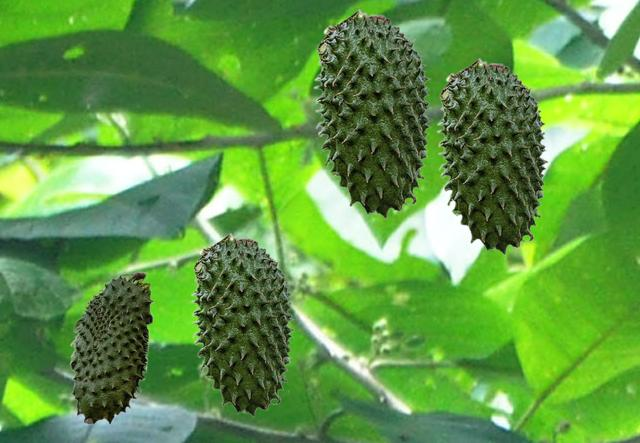guyabano: (313, 8, 432, 218), (436, 57, 548, 254), (190, 232, 294, 416), (69, 271, 153, 424)
